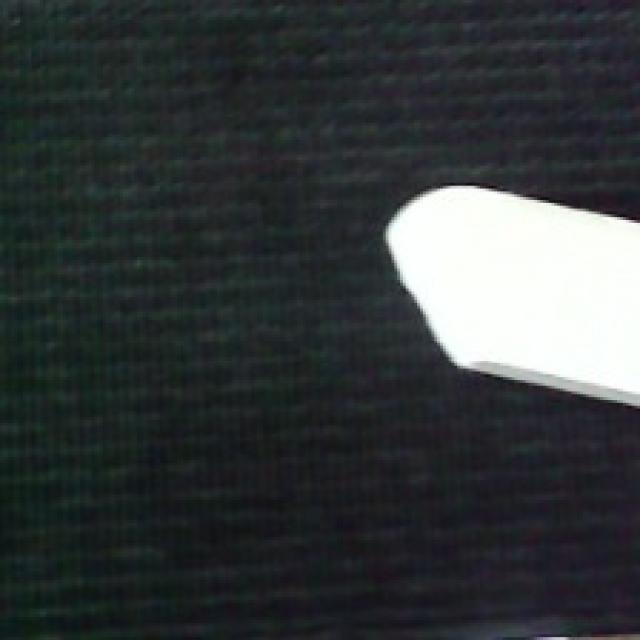defected: (380, 174, 640, 412)
